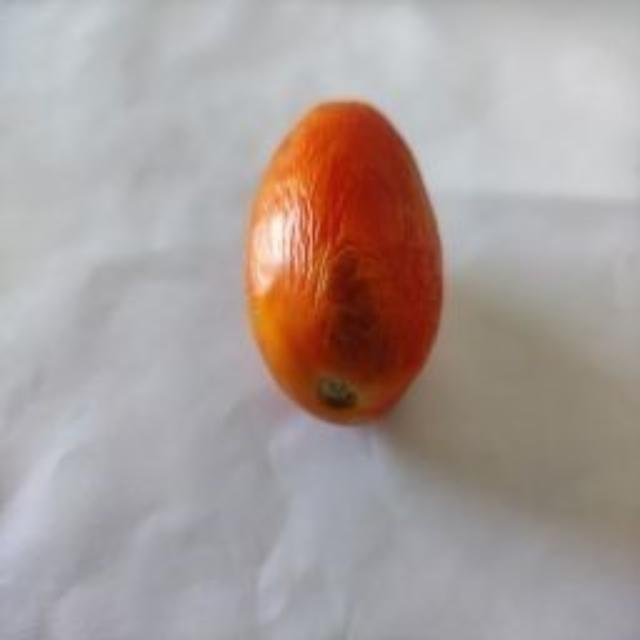defect: (239, 96, 452, 430)
